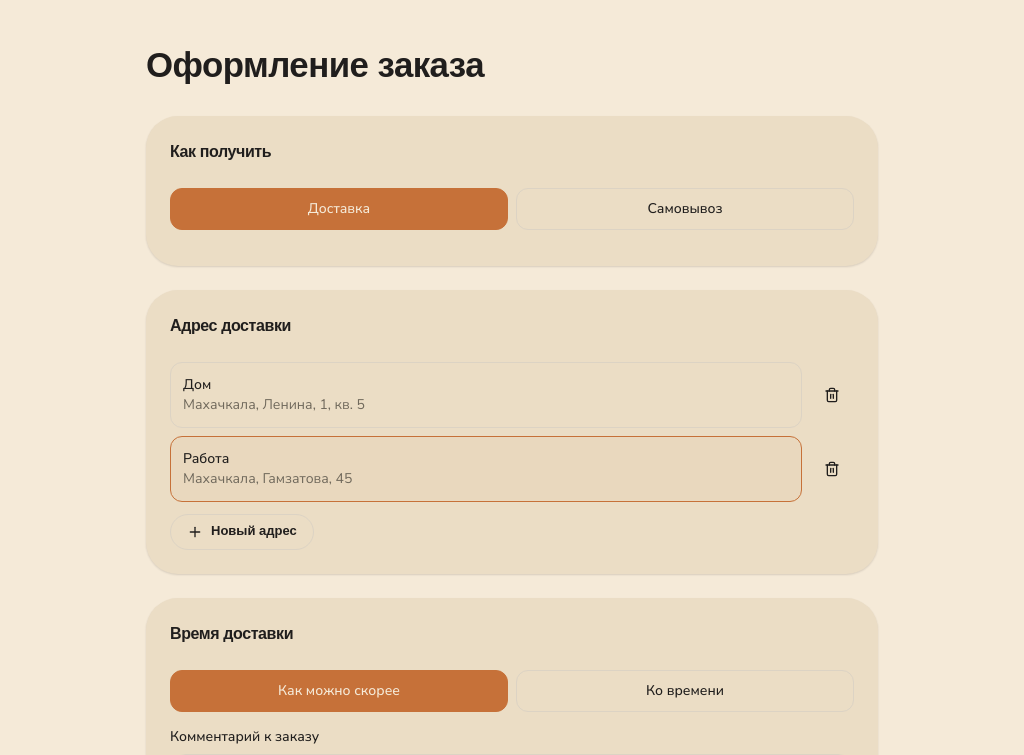
CheckoutPage — collecting instead of delivering › charges nothing for delivery
Click the button "Самовывоз": (685, 209) [516,188,854,230]
(page scrolled)
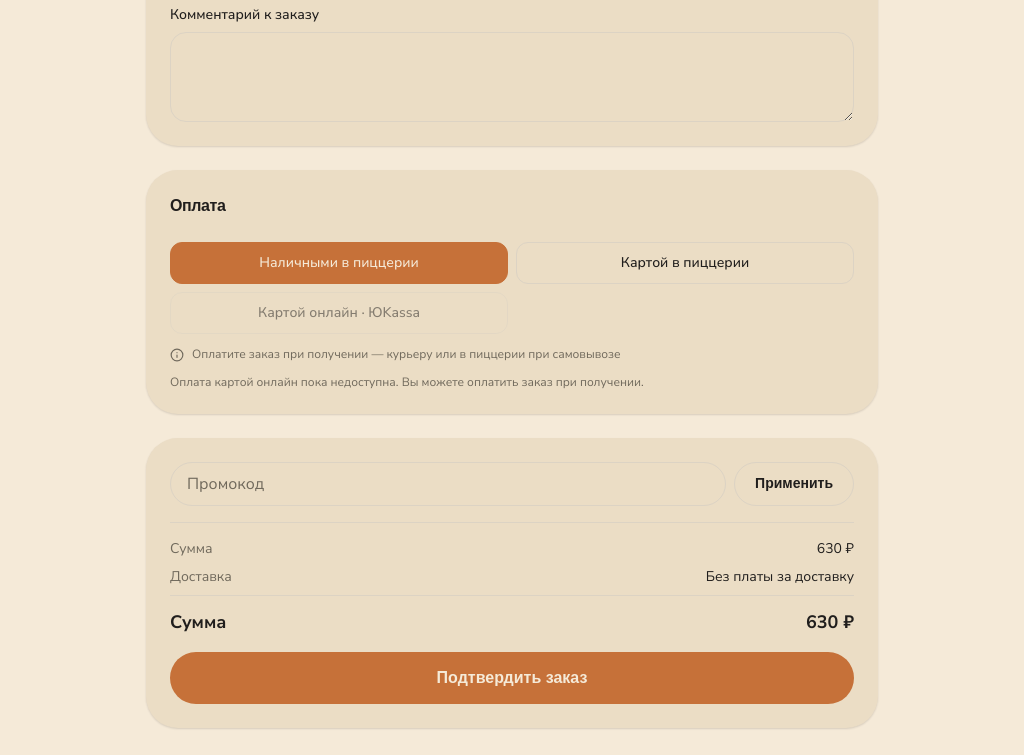
Expected: the text "630 ₽" is shown 2 times, [817,539,854,559]; [806,608,854,636]
Result: the text "Без платы за доставку" is shown at [706,567,854,587]
